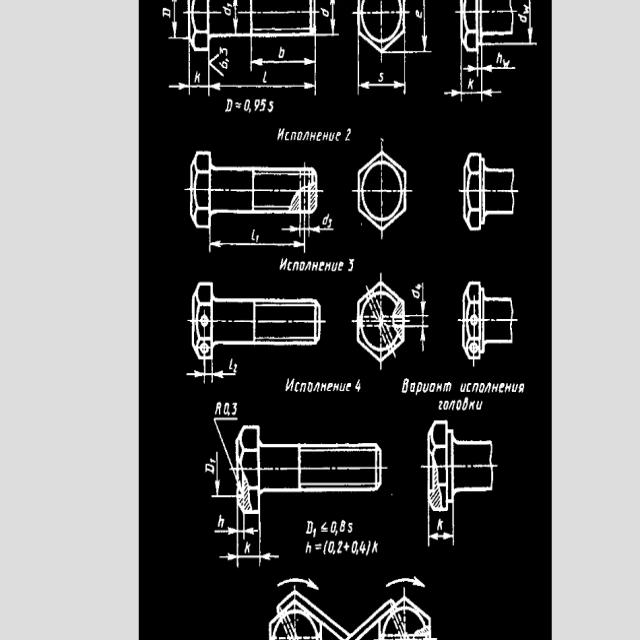marking_line: (209, 81, 315, 92), (211, 239, 303, 249), (252, 57, 314, 68), (359, 80, 405, 92), (213, 450, 222, 495), (421, 0, 429, 50), (483, 63, 517, 73), (171, 0, 179, 37), (527, 1, 534, 43), (420, 282, 428, 316), (328, 0, 335, 33), (430, 531, 453, 541), (214, 369, 236, 379), (213, 526, 235, 536), (260, 552, 281, 562), (311, 226, 334, 235), (187, 368, 203, 380), (167, 83, 188, 92), (420, 326, 427, 353), (442, 88, 459, 99), (281, 224, 299, 234), (484, 88, 502, 98), (218, 552, 236, 561), (461, 65, 476, 73), (246, 528, 257, 536)
numeric: (243, 98, 267, 115), (219, 44, 230, 71), (222, 402, 239, 418), (330, 520, 346, 536), (350, 540, 366, 556), (329, 541, 343, 556), (516, 7, 527, 26), (320, 215, 334, 228), (250, 228, 260, 245), (193, 70, 201, 85)
